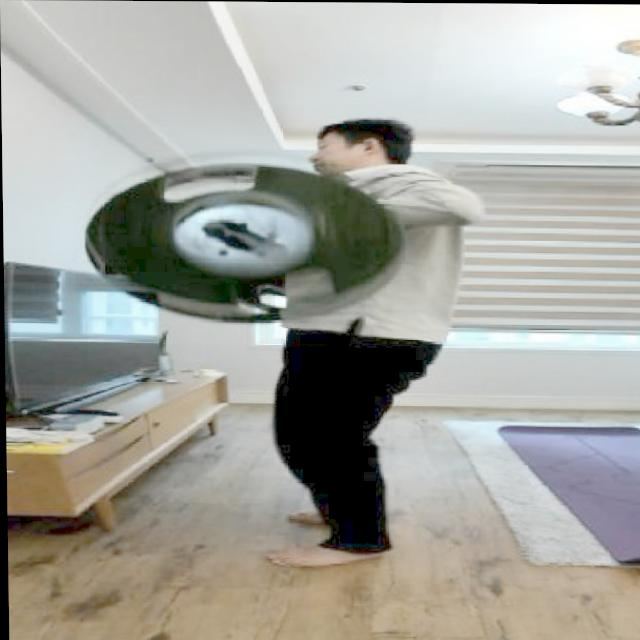barbell: (82, 153, 409, 331)
